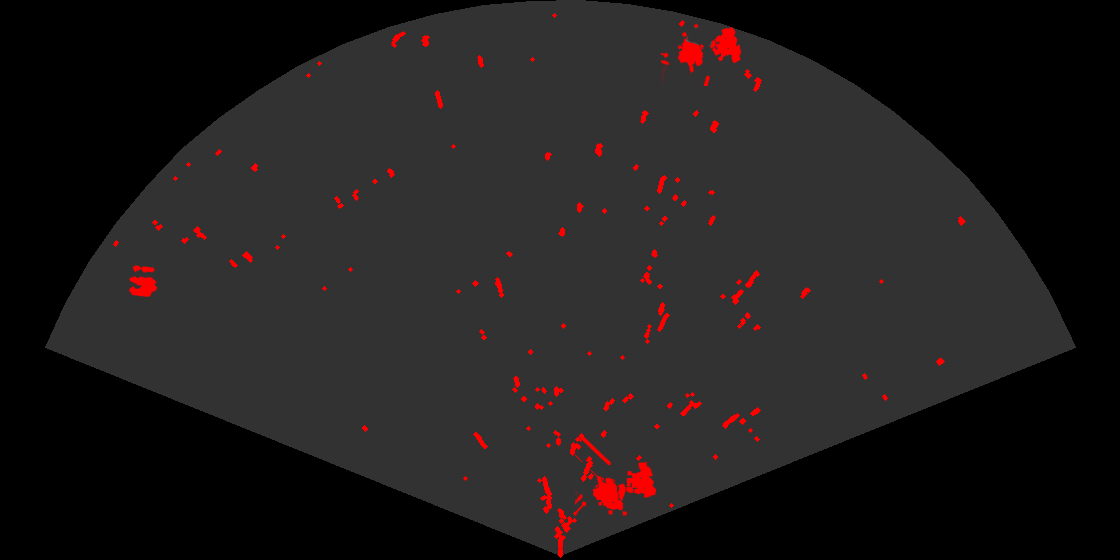ball: (593, 475, 628, 510), (127, 264, 159, 299)
cage: (575, 437, 658, 517), (661, 22, 743, 86)
